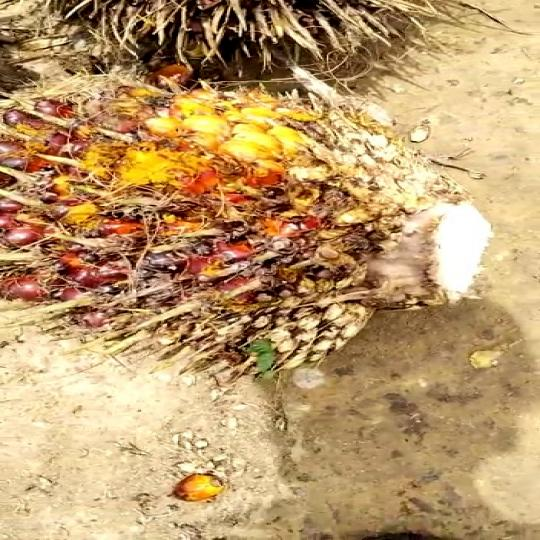masak: (0, 66, 491, 370)
